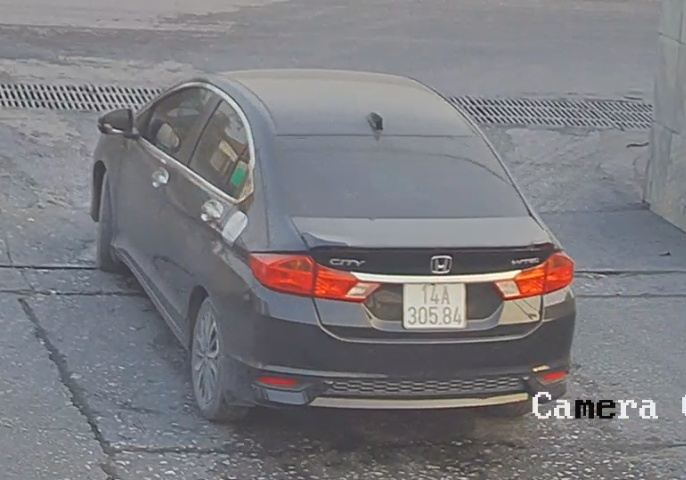vehicle plate: (397, 275, 475, 335)
